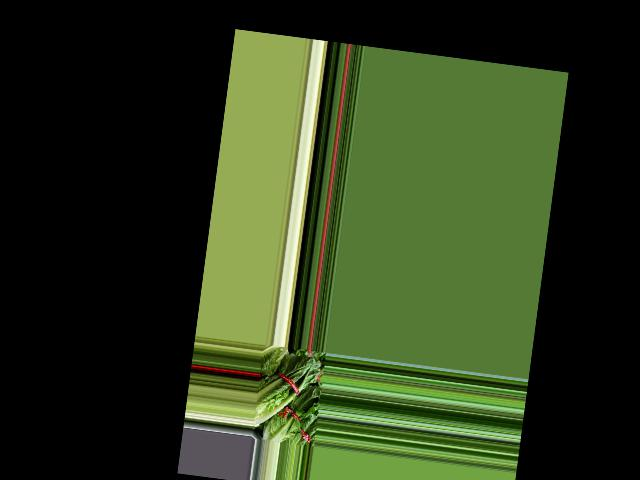lettuce: (252, 348, 322, 433)
